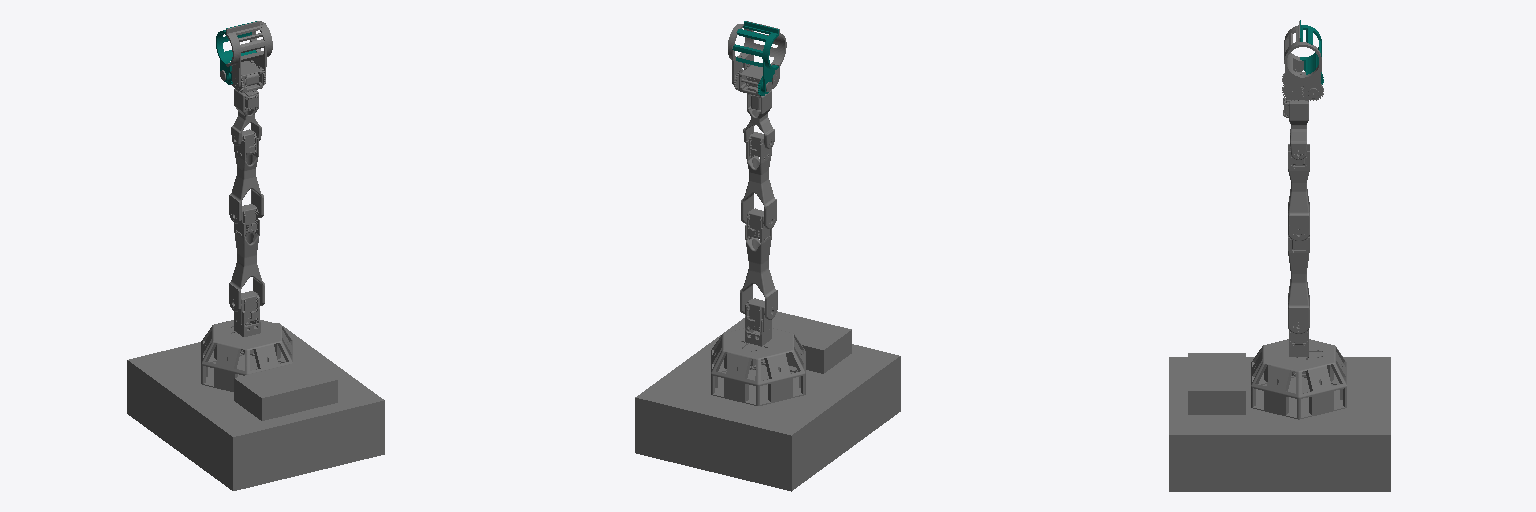
--- Facts derived from the render (not from the file) ---
The picture shows the robot from 3 angles, left to right: view 1: azimuth 30°, elevation 25°; view 2: azimuth 150°, elevation 25°; view 3: azimuth 270°, elevation 25°; orthographic projection.
Model Braccio with 28 links and 27 joints (7 revolute, 20 fixed), rooted at base_link, posed every joint at zero.
Links seen in each view (by area): view 1: base_link, socle, part_1_2, part_1_3, pince, poignee, pince_6, part_7_2; view 2: base_link, socle, part_1_2, part_1_3, pince_6, poignee, part_7_2, pince; view 3: base_link, socle, part_1_2, part_1_3, poignee, pince_2, pince_5, pince_6.
Link boxes in pixels (box(x1,y1,x2,y2)): base_link: box(127, 323, 384, 490); socle: box(201, 320, 292, 391); part_1_2: box(229, 219, 264, 311); part_1_3: box(229, 138, 263, 223); pince: box(226, 21, 266, 91); poignee: box(231, 89, 261, 145); pince_6: box(216, 21, 256, 84); part_7_2: box(235, 291, 259, 324); base_link: box(635, 311, 900, 491); socle: box(711, 328, 805, 405); part_1_2: box(740, 224, 777, 319); part_1_3: box(741, 140, 776, 228); pince_6: box(732, 21, 778, 95); poignee: box(743, 90, 774, 148); part_7_2: box(745, 298, 770, 331); pince: box(747, 21, 786, 88); base_link: box(1169, 353, 1390, 491); socle: box(1251, 339, 1346, 419); part_1_2: box(1288, 236, 1309, 333); part_1_3: box(1288, 144, 1309, 240); poignee: box(1289, 100, 1308, 159); pince_2: box(1282, 42, 1303, 100); pince_5: box(1300, 42, 1323, 100); pince_6: box(1300, 20, 1323, 84).
Size in the robot's own frame: 0.38 by 0.46 by 0.9668 metres.
28 mesh visuals loaded from 28 distinct referenced files (28 binary STL).

The robot description file, URDF, robot "Braccio":
<robot name="Braccio">
    <link name="base_link">
        <visual>
            <origin xyz="0 0 0" rpy="0 -0 0" />
            <geometry>
                <mesh filename="package://braccio_description/meshes/base_link_visual.stl" />
            </geometry>
            <material name="base_link_material">
                <color rgba="0.5 0.5 0.5 1.0" />
            </material>
        </visual>
        <collision>
            <origin xyz="0 0 0" rpy="0 -0 0" />
            <geometry>
                <mesh filename="package://braccio_description/meshes/base_link_collision.stl" />
            </geometry>
            <material name="base_link_material">
                <color rgba="0.5 0.5 0.5 1.0" />
            </material>
        </collision>
        <inertial>
            <origin xyz="0 0 0" rpy="0 0 0" />
            <mass value="0" />
            <inertia ixx="0" ixy="0" ixz="0" iyy="0" iyz="0" izz="0" />
        </inertial>
    </link>
    <link name="socle">
        <visual>
            <origin xyz="0 0 0" rpy="0 -0 0" />
            <geometry>
                <mesh filename="package://braccio_description/meshes/socle_visual.stl" />
            </geometry>
            <material name="socle_material">
                <color rgba="0.5 0.5 0.5 1.0" />
            </material>
        </visual>
        <collision>
            <origin xyz="0 0 0" rpy="0 -0 0" />
            <geometry>
                <mesh filename="package://braccio_description/meshes/socle_collision.stl" />
            </geometry>
            <material name="socle_material">
                <color rgba="0.5 0.5 0.5 1.0" />
            </material>
        </collision>
        <inertial>
            <origin xyz="0 0 0" rpy="0 0 0" />
            <mass value="0" />
            <inertia ixx="0" ixy="0" ixz="0" iyy="0" iyz="0" izz="0" />
        </inertial>
    </link>
    <link name="part_7">
        <visual>
            <origin xyz="0 0 0" rpy="0 -0 0" />
            <geometry>
                <mesh filename="package://braccio_description/meshes/part_7_visual.stl" />
            </geometry>
            <material name="part_7_material">
                <color rgba="0.5 0.5 0.5 1.0" />
            </material>
        </visual>
        <collision>
            <origin xyz="0 0 0" rpy="0 -0 0" />
            <geometry>
                <mesh filename="package://braccio_description/meshes/part_7_collision.stl" />
            </geometry>
            <material name="part_7_material">
                <color rgba="0.5 0.5 0.5 1.0" />
            </material>
        </collision>
        <inertial>
            <origin xyz="0 0 0" rpy="0 0 0" />
            <mass value="0" />
            <inertia ixx="0" ixy="0" ixz="0" iyy="0" iyz="0" izz="0" />
        </inertial>
    </link>
    <link name="part_5">
        <visual>
            <origin xyz="0 0 0" rpy="0 -0 0" />
            <geometry>
                <mesh filename="package://braccio_description/meshes/part_5_visual.stl" />
            </geometry>
            <material name="part_5_material">
                <color rgba="0.5 0.5 0.5 1.0" />
            </material>
        </visual>
        <collision>
            <origin xyz="0 0 0" rpy="0 -0 0" />
            <geometry>
                <mesh filename="package://braccio_description/meshes/part_5_collision.stl" />
            </geometry>
            <material name="part_5_material">
                <color rgba="0.5 0.5 0.5 1.0" />
            </material>
        </collision>
        <inertial>
            <origin xyz="0 0 0" rpy="0 0 0" />
            <mass value="0" />
            <inertia ixx="0" ixy="0" ixz="0" iyy="0" iyz="0" izz="0" />
        </inertial>
    </link>
    <link name="part_6">
        <visual>
            <origin xyz="0 0 0" rpy="0 -0 0" />
            <geometry>
                <mesh filename="package://braccio_description/meshes/part_6_visual.stl" />
            </geometry>
            <material name="part_6_material">
                <color rgba="0.5 0.5 0.5 1.0" />
            </material>
        </visual>
        <collision>
            <origin xyz="0 0 0" rpy="0 -0 0" />
            <geometry>
                <mesh filename="package://braccio_description/meshes/part_6_collision.stl" />
            </geometry>
            <material name="part_6_material">
                <color rgba="0.5 0.5 0.5 1.0" />
            </material>
        </collision>
        <inertial>
            <origin xyz="0 0 0" rpy="0 0 0" />
            <mass value="0" />
            <inertia ixx="0" ixy="0" ixz="0" iyy="0" iyz="0" izz="0" />
        </inertial>
    </link>
    <link name="part_4">
        <visual>
            <origin xyz="0 0 0" rpy="0 -0 0" />
            <geometry>
                <mesh filename="package://braccio_description/meshes/part_4_visual.stl" />
            </geometry>
            <material name="part_4_material">
                <color rgba="0.5 0.5 0.5 1.0" />
            </material>
        </visual>
        <collision>
            <origin xyz="0 0 0" rpy="0 -0 0" />
            <geometry>
                <mesh filename="package://braccio_description/meshes/part_4_collision.stl" />
            </geometry>
            <material name="part_4_material">
                <color rgba="0.5 0.5 0.5 1.0" />
            </material>
        </collision>
        <inertial>
            <origin xyz="0 0 0" rpy="0 0 0" />
            <mass value="0" />
            <inertia ixx="0" ixy="0" ixz="0" iyy="0" iyz="0" izz="0" />
        </inertial>
    </link>
    <joint name="3f" type="fixed">
        <origin xyz="-6.08714e-15 6.45312e-15 -0.0043" rpy="3.14159 1.24299e-32 -5.55112e-17" />
        <parent link="part_6" />
        <child link="part_4" />
        <axis xyz="0 0 1" />
        <limit effort="1" velocity="20" />
        <joint_properties friction="0.0" />
    </joint>
    <link name="part_1">
        <visual>
            <origin xyz="0 0 0" rpy="0 -0 0" />
            <geometry>
                <mesh filename="package://braccio_description/meshes/part_1_visual.stl" />
            </geometry>
            <material name="part_1_material">
                <color rgba="0.5 0.5 0.5 1.0" />
            </material>
        </visual>
        <collision>
            <origin xyz="0 0 0" rpy="0 -0 0" />
            <geometry>
                <mesh filename="package://braccio_description/meshes/part_1_collision.stl" />
            </geometry>
            <material name="part_1_material">
                <color rgba="0.5 0.5 0.5 1.0" />
            </material>
        </collision>
        <inertial>
            <origin xyz="0 0 0" rpy="0 0 0" />
            <mass value="0" />
            <inertia ixx="0" ixy="0" ixz="0" iyy="0" iyz="0" izz="0" />
        </inertial>
    </link>
    <link name="part_7_2">
        <visual>
            <origin xyz="0 0 0" rpy="0 -0 0" />
            <geometry>
                <mesh filename="package://braccio_description/meshes/part_7_2_visual.stl" />
            </geometry>
            <material name="part_7_2_material">
                <color rgba="0.5 0.5 0.5 1.0" />
            </material>
        </visual>
        <collision>
            <origin xyz="0 0 0" rpy="0 -0 0" />
            <geometry>
                <mesh filename="package://braccio_description/meshes/part_7_2_collision.stl" />
            </geometry>
            <material name="part_7_2_material">
                <color rgba="0.5 0.5 0.5 1.0" />
            </material>
        </collision>
        <inertial>
            <origin xyz="0 0 0" rpy="0 0 0" />
            <mass value="0" />
            <inertia ixx="0" ixy="0" ixz="0" iyy="0" iyz="0" izz="0" />
        </inertial>
    </link>
    <link name="part_5_2">
        <visual>
            <origin xyz="0 0 0" rpy="0 -0 0" />
            <geometry>
                <mesh filename="package://braccio_description/meshes/part_5_2_visual.stl" />
            </geometry>
            <material name="part_5_2_material">
                <color rgba="0.5 0.5 0.5 1.0" />
            </material>
        </visual>
        <collision>
            <origin xyz="0 0 0" rpy="0 -0 0" />
            <geometry>
                <mesh filename="package://braccio_description/meshes/part_5_2_collision.stl" />
            </geometry>
            <material name="part_5_2_material">
                <color rgba="0.5 0.5 0.5 1.0" />
            </material>
        </collision>
        <inertial>
            <origin xyz="0 0 0" rpy="0 0 0" />
            <mass value="0" />
            <inertia ixx="0" ixy="0" ixz="0" iyy="0" iyz="0" izz="0" />
        </inertial>
    </link>
    <link name="part_4_2">
        <visual>
            <origin xyz="0 0 0" rpy="0 -0 0" />
            <geometry>
                <mesh filename="package://braccio_description/meshes/part_4_2_visual.stl" />
            </geometry>
            <material name="part_4_2_material">
                <color rgba="0.5 0.5 0.5 1.0" />
            </material>
        </visual>
        <collision>
            <origin xyz="0 0 0" rpy="0 -0 0" />
            <geometry>
                <mesh filename="package://braccio_description/meshes/part_4_2_collision.stl" />
            </geometry>
            <material name="part_4_2_material">
                <color rgba="0.5 0.5 0.5 1.0" />
            </material>
        </collision>
        <inertial>
            <origin xyz="0 0 0" rpy="0 0 0" />
            <mass value="0" />
            <inertia ixx="0" ixy="0" ixz="0" iyy="0" iyz="0" izz="0" />
        </inertial>
    </link>
    <link name="part_6_2">
        <visual>
            <origin xyz="0 0 0" rpy="0 -0 0" />
            <geometry>
                <mesh filename="package://braccio_description/meshes/part_6_2_visual.stl" />
            </geometry>
            <material name="part_6_2_material">
                <color rgba="0.5 0.5 0.5 1.0" />
            </material>
        </visual>
        <collision>
            <origin xyz="0 0 0" rpy="0 -0 0" />
            <geometry>
                <mesh filename="package://braccio_description/meshes/part_6_2_collision.stl" />
            </geometry>
            <material name="part_6_2_material">
                <color rgba="0.5 0.5 0.5 1.0" />
            </material>
        </collision>
        <inertial>
            <origin xyz="0 0 0" rpy="0 0 0" />
            <mass value="0" />
            <inertia ixx="0" ixy="0" ixz="0" iyy="0" iyz="0" izz="0" />
        </inertial>
    </link>
    <link name="part_1_2">
        <visual>
            <origin xyz="0 0 0" rpy="0 -0 0" />
            <geometry>
                <mesh filename="package://braccio_description/meshes/part_1_2_visual.stl" />
            </geometry>
            <material name="part_1_2_material">
                <color rgba="0.5 0.5 0.5 1.0" />
            </material>
        </visual>
        <collision>
            <origin xyz="0 0 0" rpy="0 -0 0" />
            <geometry>
                <mesh filename="package://braccio_description/meshes/part_1_2_collision.stl" />
            </geometry>
            <material name="part_1_2_material">
                <color rgba="0.5 0.5 0.5 1.0" />
            </material>
        </collision>
        <inertial>
            <origin xyz="0 0 0" rpy="0 0 0" />
            <mass value="0" />
            <inertia ixx="0" ixy="0" ixz="0" iyy="0" iyz="0" izz="0" />
        </inertial>
    </link>
    <link name="part_17">
        <visual>
            <origin xyz="0 0 0" rpy="0 -0 0" />
            <geometry>
                <mesh filename="package://braccio_description/meshes/part_17_visual.stl" />
            </geometry>
            <material name="part_17_material">
                <color rgba="0.5 0.5 0.5 1.0" />
            </material>
        </visual>
        <collision>
            <origin xyz="0 0 0" rpy="0 -0 0" />
            <geometry>
                <mesh filename="package://braccio_description/meshes/part_17_collision.stl" />
            </geometry>
            <material name="part_17_material">
                <color rgba="0.5 0.5 0.5 1.0" />
            </material>
        </collision>
        <inertial>
            <origin xyz="0 0 0" rpy="0 0 0" />
            <mass value="0" />
            <inertia ixx="0" ixy="0" ixz="0" iyy="0" iyz="0" izz="0" />
        </inertial>
    </link>
    <link name="part_6_3">
        <visual>
            <origin xyz="0 0 0" rpy="0 -0 0" />
            <geometry>
                <mesh filename="package://braccio_description/meshes/part_6_3_visual.stl" />
            </geometry>
            <material name="part_6_3_material">
                <color rgba="0.5 0.5 0.5 1.0" />
            </material>
        </visual>
        <collision>
            <origin xyz="0 0 0" rpy="0 -0 0" />
            <geometry>
                <mesh filename="package://braccio_description/meshes/part_6_3_collision.stl" />
            </geometry>
            <material name="part_6_3_material">
                <color rgba="0.5 0.5 0.5 1.0" />
            </material>
        </collision>
        <inertial>
            <origin xyz="0 0 0" rpy="0 0 0" />
            <mass value="0" />
            <inertia ixx="0" ixy="0" ixz="0" iyy="0" iyz="0" izz="0" />
        </inertial>
    </link>
    <link name="part_1_3">
        <visual>
            <origin xyz="0 0 0" rpy="0 -0 0" />
            <geometry>
                <mesh filename="package://braccio_description/meshes/part_1_3_visual.stl" />
            </geometry>
            <material name="part_1_3_material">
                <color rgba="0.5 0.5 0.5 1.0" />
            </material>
        </visual>
        <collision>
            <origin xyz="0 0 0" rpy="0 -0 0" />
            <geometry>
                <mesh filename="package://braccio_description/meshes/part_1_3_collision.stl" />
            </geometry>
            <material name="part_1_3_material">
                <color rgba="0.5 0.5 0.5 1.0" />
            </material>
        </collision>
        <inertial>
            <origin xyz="0 0 0" rpy="0 0 0" />
            <mass value="0" />
            <inertia ixx="0" ixy="0" ixz="0" iyy="0" iyz="0" izz="0" />
        </inertial>
    </link>
    <link name="part_1_4">
        <visual>
            <origin xyz="0 0 0" rpy="0 -0 0" />
            <geometry>
                <mesh filename="package://braccio_description/meshes/part_1_4_visual.stl" />
            </geometry>
            <material name="part_1_4_material">
                <color rgba="0.5 0.5 0.5 1.0" />
            </material>
        </visual>
        <collision>
            <origin xyz="0 0 0" rpy="0 -0 0" />
            <geometry>
                <mesh filename="package://braccio_description/meshes/part_1_4_collision.stl" />
            </geometry>
            <material name="part_1_4_material">
                <color rgba="0.5 0.5 0.5 1.0" />
            </material>
        </collision>
        <inertial>
            <origin xyz="0 0 0" rpy="0 0 0" />
            <mass value="0" />
            <inertia ixx="0" ixy="0" ixz="0" iyy="0" iyz="0" izz="0" />
        </inertial>
    </link>
    <link name="poignee">
        <visual>
            <origin xyz="0 0 0" rpy="0 -0 0" />
            <geometry>
                <mesh filename="package://braccio_description/meshes/poignee_visual.stl" />
            </geometry>
            <material name="poignee_material">
                <color rgba="0.5 0.5 0.5 1.0" />
            </material>
        </visual>
        <collision>
            <origin xyz="0 0 0" rpy="0 -0 0" />
            <geometry>
                <mesh filename="package://braccio_description/meshes/poignee_collision.stl" />
            </geometry>
            <material name="poignee_material">
                <color rgba="0.5 0.5 0.5 1.0" />
            </material>
        </collision>
        <inertial>
            <origin xyz="0 0 0" rpy="0 0 0" />
            <mass value="0" />
            <inertia ixx="0" ixy="0" ixz="0" iyy="0" iyz="0" izz="0" />
        </inertial>
    </link>
    <link name="part_11">
        <visual>
            <origin xyz="0 0 0" rpy="0 -0 0" />
            <geometry>
                <mesh filename="package://braccio_description/meshes/part_11_visual.stl" />
            </geometry>
            <material name="part_11_material">
                <color rgba="0.5 0.5 0.5 1.0" />
            </material>
        </visual>
        <collision>
            <origin xyz="0 0 0" rpy="0 -0 0" />
            <geometry>
                <mesh filename="package://braccio_description/meshes/part_11_collision.stl" />
            </geometry>
            <material name="part_11_material">
                <color rgba="0.5 0.5 0.5 1.0" />
            </material>
        </collision>
        <inertial>
            <origin xyz="0 0 0" rpy="0 0 0" />
            <mass value="0" />
            <inertia ixx="0" ixy="0" ixz="0" iyy="0" iyz="0" izz="0" />
        </inertial>
    </link>
    <link name="part_2">
        <visual>
            <origin xyz="0 0 0" rpy="0 -0 0" />
            <geometry>
                <mesh filename="package://braccio_description/meshes/part_2_visual.stl" />
            </geometry>
            <material name="part_2_material">
                <color rgba="0.5 0.5 0.5 1.0" />
            </material>
        </visual>
        <collision>
            <origin xyz="0 0 0" rpy="0 -0 0" />
            <geometry>
                <mesh filename="package://braccio_description/meshes/part_2_collision.stl" />
            </geometry>
            <material name="part_2_material">
                <color rgba="0.5 0.5 0.5 1.0" />
            </material>
        </collision>
        <inertial>
            <origin xyz="0 0 0" rpy="0 0 0" />
            <mass value="0" />
            <inertia ixx="0" ixy="0" ixz="0" iyy="0" iyz="0" izz="0" />
        </inertial>
    </link>
    <link name="support_pince">
        <visual>
            <origin xyz="0 0 0" rpy="0 -0 0" />
            <geometry>
                <mesh filename="package://braccio_description/meshes/support_pince_visual.stl" />
            </geometry>
            <material name="support_pince_material">
                <color rgba="0.5 0.5 0.5 1.0" />
            </material>
        </visual>
        <collision>
            <origin xyz="0 0 0" rpy="0 -0 0" />
            <geometry>
                <mesh filename="package://braccio_description/meshes/support_pince_collision.stl" />
            </geometry>
            <material name="support_pince_material">
                <color rgba="0.5 0.5 0.5 1.0" />
            </material>
        </collision>
        <inertial>
            <origin xyz="0 0 0" rpy="0 0 0" />
            <mass value="0" />
            <inertia ixx="0" ixy="0" ixz="0" iyy="0" iyz="0" izz="0" />
        </inertial>
    </link>
    <link name="part_11_2">
        <visual>
            <origin xyz="0 0 0" rpy="0 -0 0" />
            <geometry>
                <mesh filename="package://braccio_description/meshes/part_11_2_visual.stl" />
            </geometry>
            <material name="part_11_2_material">
                <color rgba="0.5 0.5 0.5 1.0" />
            </material>
        </visual>
        <collision>
            <origin xyz="0 0 0" rpy="0 -0 0" />
            <geometry>
                <mesh filename="package://braccio_description/meshes/part_11_2_collision.stl" />
            </geometry>
            <material name="part_11_2_material">
                <color rgba="0.5 0.5 0.5 1.0" />
            </material>
        </collision>
        <inertial>
            <origin xyz="0 0 0" rpy="0 0 0" />
            <mass value="0" />
            <inertia ixx="0" ixy="0" ixz="0" iyy="0" iyz="0" izz="0" />
        </inertial>
    </link>
    <link name="part_2_2">
        <visual>
            <origin xyz="0 0 0" rpy="0 -0 0" />
            <geometry>
                <mesh filename="package://braccio_description/meshes/part_2_2_visual.stl" />
            </geometry>
            <material name="part_2_2_material">
                <color rgba="0.5 0.5 0.5 1.0" />
            </material>
        </visual>
        <collision>
            <origin xyz="0 0 0" rpy="0 -0 0" />
            <geometry>
                <mesh filename="package://braccio_description/meshes/part_2_2_collision.stl" />
            </geometry>
            <material name="part_2_2_material">
                <color rgba="0.5 0.5 0.5 1.0" />
            </material>
        </collision>
        <inertial>
            <origin xyz="0 0 0" rpy="0 0 0" />
            <mass value="0" />
            <inertia ixx="0" ixy="0" ixz="0" iyy="0" iyz="0" izz="0" />
        </inertial>
    </link>
    <link name="pince">
        <visual>
            <origin xyz="0 0 0" rpy="0 -0 0" />
            <geometry>
                <mesh filename="package://braccio_description/meshes/pince_visual.stl" />
            </geometry>
            <material name="pince_material">
                <color rgba="0.5 0.5 0.5 1.0" />
            </material>
        </visual>
        <collision>
            <origin xyz="0 0 0" rpy="0 -0 0" />
            <geometry>
                <mesh filename="package://braccio_description/meshes/pince_collision.stl" />
            </geometry>
            <material name="pince_material">
                <color rgba="0.5 0.5 0.5 1.0" />
            </material>
        </collision>
        <inertial>
            <origin xyz="0 0 0" rpy="0 0 0" />
            <mass value="0" />
            <inertia ixx="0" ixy="0" ixz="0" iyy="0" iyz="0" izz="0" />
        </inertial>
    </link>
    <link name="pince_2">
        <visual>
            <origin xyz="0 0 0" rpy="0 -0 0" />
            <geometry>
                <mesh filename="package://braccio_description/meshes/pince_2_visual.stl" />
            </geometry>
            <material name="pince_2_material">
                <color rgba="0.5 0.5 0.5 1.0" />
            </material>
        </visual>
        <collision>
            <origin xyz="0 0 0" rpy="0 -0 0" />
            <geometry>
                <mesh filename="package://braccio_description/meshes/pince_2_collision.stl" />
            </geometry>
            <material name="pince_2_material">
                <color rgba="0.5 0.5 0.5 1.0" />
            </material>
        </collision>
        <inertial>
            <origin xyz="0 0 0" rpy="0 0 0" />
            <mass value="0" />
            <inertia ixx="0" ixy="0" ixz="0" iyy="0" iyz="0" izz="0" />
        </inertial>
    </link>
    <joint name="22f" type="fixed">
        <origin xyz="0.0135856 -0.0828639 0.0525" rpy="-3.14159 3.27525e-30 6.31089e-30" />
        <parent link="pince" />
        <child link="pince_2" />
        <axis xyz="0 0 1" />
        <limit effort="1" velocity="20" />
        <joint_properties friction="0.0" />
    </joint>
    <joint name="21f" type="fixed">
        <origin xyz="0 0 -0.0077" rpy="-3.9795e-15 2.22045e-16 -1.5708" />
        <parent link="part_2_2" />
        <child link="pince" />
        <axis xyz="0 0 1" />
        <limit effort="1" velocity="20" />
        <joint_properties friction="0.0" />
    </joint>
    <joint name="pince_mot" type="revolute">
        <origin xyz="-0.0135 0.0225 -0.0026" rpy="3.14159 4.31256e-15 5.73896e-29" />
        <parent link="part_11_2" />
        <child link="part_2_2" />
        <axis xyz="0 0 1" />
        <limit effort="1" velocity="20" lower="0" upper="1.5708" />
        <joint_properties friction="0.0" />
    </joint>
    <joint name="19f" type="fixed">
        <origin xyz="0.00350003 -0.0142499 -0.00999994" rpy="1.5708 -1.5708 0" />
        <parent link="support_pince" />
        <child link="part_11_2" />
        <axis xyz="0 0 1" />
        <limit effort="1" velocity="20" />
        <joint_properties friction="0.0" />
    </joint>
    <link name="pince_3">
        <visual>
            <origin xyz="0 0 0" rpy="0 -0 0" />
            <geometry>
                <mesh filename="package://braccio_description/meshes/pince_3_visual.stl" />
            </geometry>
            <material name="pince_3_material">
                <color rgba="0.5 0.5 0.5 1.0" />
            </material>
        </visual>
        <collision>
            <origin xyz="0 0 0" rpy="0 -0 0" />
            <geometry>
                <mesh filename="package://braccio_description/meshes/pince_3_collision.stl" />
            </geometry>
            <material name="pince_3_material">
                <color rgba="0.5 0.5 0.5 1.0" />
            </material>
        </collision>
        <inertial>
            <origin xyz="0 0 0" rpy="0 0 0" />
            <mass value="0" />
            <inertia ixx="0" ixy="0" ixz="0" iyy="0" iyz="0" izz="0" />
        </inertial>
    </link>
    <link name="pince_4">
        <visual>
            <origin xyz="0 0 0" rpy="0 -0 0" />
            <geometry>
                <mesh filename="package://braccio_description/meshes/pince_4_visual.stl" />
            </geometry>
            <material name="pince_4_material">
                <color rgba="0.5 0.5 0.5 1.0" />
            </material>
        </visual>
        <collision>
            <origin xyz="0 0 0" rpy="0 -0 0" />
            <geometry>
                <mesh filename="package://braccio_description/meshes/pince_4_collision.stl" />
            </geometry>
            <material name="pince_4_material">
                <color rgba="0.5 0.5 0.5 1.0" />
            </material>
        </collision>
        <inertial>
            <origin xyz="0 0 0" rpy="0 0 0" />
            <mass value="0" />
            <inertia ixx="0" ixy="0" ixz="0" iyy="0" iyz="0" izz="0" />
        </inertial>
    </link>
    <link name="pince_5">
        <visual>
            <origin xyz="0 0 0" rpy="0 -0 0" />
            <geometry>
                <mesh filename="package://braccio_description/meshes/pince_5_visual.stl" />
            </geometry>
            <material name="pince_5_material">
                <color rgba="0.5 0.5 0.5 1.0" />
            </material>
        </visual>
        <collision>
            <origin xyz="0 0 0" rpy="0 -0 0" />
            <geometry>
                <mesh filename="package://braccio_description/meshes/pince_5_collision.stl" />
            </geometry>
            <material name="pince_5_material">
                <color rgba="0.5 0.5 0.5 1.0" />
            </material>
        </collision>
        <inertial>
            <origin xyz="0 0 0" rpy="0 0 0" />
            <mass value="0" />
            <inertia ixx="0" ixy="0" ixz="0" iyy="0" iyz="0" izz="0" />
        </inertial>
    </link>
    <joint name="25f" type="fixed">
        <origin xyz="-0.0111547 -0.002 0.0025" rpy="-9.18292e-15 2.22045e-16 -5.68108e-16" />
        <parent link="pince_4" />
        <child link="pince_5" />
        <axis xyz="0 0 1" />
        <limit effort="1" velocity="20" />
        <joint_properties friction="0.0" />
    </joint>
    <joint name="24f" type="fixed">
        <origin xyz="-0.0011547 0.002 -0.0375" rpy="-3.14159 -1.11022e-16 -3.14159" />
        <parent link="pince_3" />
        <child link="pince_4" />
        <axis xyz="0 0 1" />
        <limit effort="1" velocity="20" />
        <joint_properties friction="0.0" />
    </joint>
    <link name="pince_6">
        <visual>
            <origin xyz="0 0 0" rpy="0 -0 0" />
            <geometry>
                <mesh filename="package://braccio_description/meshes/pince_6_visual.stl" />
            </geometry>
            <material name="pince_6_material">
                <color rgba="0.0470588 0.470588 0.435294 1.0" />
            </material>
        </visual>
        <collision>
            <origin xyz="0 0 0" rpy="0 -0 0" />
            <geometry>
                <mesh filename="package://braccio_description/meshes/pince_6_collision.stl" />
            </geometry>
            <material name="pince_6_material">
                <color rgba="0.5 0.5 0.5 1.0" />
            </material>
        </collision>
        <inertial>
            <origin xyz="0.00232943 0.0532684 -0.0199597" rpy="0 0 0" />
            <mass value="0.0598161" />
            <inertia ixx="0.000137938" ixy="6.9959e-06" ixz="-1.48999e-06" iyy="4.32368e-05" iyz="1.89377e-05" izz="0.000112883" />
        </inertial>
    </link>
    <joint name="26f" type="fixed">
        <origin xyz="6.93889e-18 -2.22045e-16 0.039" rpy="-3.67723e-17 1.72085e-15 -3.14159" />
        <parent link="pince_3" />
        <child link="pince_6" />
        <axis xyz="0 0 1" />
        <limit effort="1" velocity="20" />
        <joint_properties friction="0.0" />
    </joint>
    <joint name="pince_lib" type="revolute">
        <origin xyz="0.024 -0.000549949 -0.0234999" rpy="1.5708 -6.66587e-29 -2.94781e-15" />
        <parent link="support_pince" />
        <child link="pince_3" />
        <axis xyz="0 0 1" />
        <limit effort="1" velocity="20" lower="0" upper="1.5708" />
        <joint_properties friction="0.0" />
    </joint>
    <joint name="18f" type="fixed">
        <origin xyz="-2.60209e-18 -8.67362e-19 0.01431" rpy="3.14159 -1.57772e-30 1.5708" />
        <parent link="part_2" />
        <child link="support_pince" />
        <axis xyz="0 0 1" />
        <limit effort="1" velocity="20" />
        <joint_properties friction="0.0" />
    </joint>
    <joint name="poignet_rot" type="revolute">
        <origin xyz="0.0135 0.0145 -0.0026" rpy="-2.22045e-16 -2.22045e-16 -1.64305e-14" />
        <parent link="part_11" />
        <child link="part_2" />
        <axis xyz="0 0 1" />
        <limit effort="1" velocity="20" lower="-3.14159" upper="3.14159" />
        <joint_properties friction="0.0" />
    </joint>
    <joint name="16f" type="fixed">
        <origin xyz="0.008 0.110686 -0.016" rpy="-1.5708 1.5708 0" />
        <parent link="poignee" />
        <child link="part_11" />
        <axis xyz="0 0 1" />
        <limit effort="1" velocity="20" />
        <joint_properties friction="0.0" />
    </joint>
    <joint name="poignet_incl" type="revolute">
        <origin xyz="0.0080763 -0.0358 0.01475" rpy="-3.8477e-15 1.20224e-15 -3.14159" />
        <parent link="part_1_4" />
        <child link="poignee" />
        <axis xyz="0 0 1" />
        <limit effort="1" velocity="20" lower="-1.74533" upper="1.74533" />
        <joint_properties friction="0.0" />
    </joint>
    <joint name="14f" type="fixed">
        <origin xyz="-0.1342 -0.0085 0.009" rpy="-3.14159 -2.26416e-31 1.5708" />
        <parent link="part_1_3" />
        <child link="part_1_4" />
        <axis xyz="0 0 1" />
        <limit effort="1" velocity="20" />
        <joint_properties friction="0.0" />
    </joint>
    <joint name="13f" type="fixed">
        <origin xyz="0.0109949 0.000336119 0.006" rpy="3.14159 1.0011e-14 3.14159" />
        <parent link="part_6_3" />
        <child link="part_1_3" />
        <axis xyz="0 0 1" />
        <limit effort="1" velocity="20" />
        <joint_properties friction="0.0" />
    </joint>
    <joint name="coude" type="revolute">
        <origin xyz="-0.0109994 0.0453 -0.0362" rpy="3.14159 -2.81242e-15 1.5708" />
        <parent link="part_17" />
        <child link="part_6_3" />
        <axis xyz="0 0 1" />
        <limit effort="1" velocity="20" lower="-2.0944" upper="2.0944" />
        <joint_properties friction="0.0" />
    </joint>
    <joint name="11f" type="fixed">
        <origin xyz="-0.176688 0.011 0.04325" rpy="1.64806e-15 -1.74617e-15 1.5708" />
        <parent link="part_1_2" />
        <child link="part_17" />
        <axis xyz="0 0 1" />
        <limit effort="1" velocity="20" />
        <joint_properties friction="0.0" />
    </joint>
    <joint name="10f" type="fixed">
        <origin xyz="0.000336119 -0.0109949 0.0002" rpy="-3.14159 4.87172e-17 -1.5708" />
        <parent link="part_6_2" />
        <child link="part_1_2" />
        <axis xyz="0 0 1" />
        <limit effort="1" velocity="20" />
        <joint_properties friction="0.0" />
    </joint>
    <joint name="9f" type="fixed">
        <origin xyz="3.38813e-19 0 -0.0048" rpy="-3.14159 -8.8436e-31 -5.55112e-17" />
        <parent link="part_4_2" />
        <child link="part_6_2" />
        <axis xyz="0 0 1" />
        <limit effort="1" velocity="20" />
        <joint_properties friction="0.0" />
    </joint>
    <joint name="8f" type="fixed">
        <origin xyz="-2.43945e-18 0 0.0013" rpy="3.14159 -1.23886e-14 -3.14159" />
        <parent link="part_5_2" />
        <child link="part_4_2" />
        <axis xyz="0 0 1" />
        <limit effort="1" velocity="20" />
        <joint_properties friction="0.0" />
    </joint>
    <joint name="epaule" type="revolute">
        <origin xyz="-0.011 -0.0478 -0.038" rpy="-3.14159 -3.90704e-15 -3.14159" />
        <parent link="part_7_2" />
        <child link="part_5_2" />
        <axis xyz="0 0 1" />
        <limit effort="1" velocity="20" lower="-2.0944" upper="2.0944" />
        <joint_properties friction="0.0" />
    </joint>
    <joint name="6f" type="fixed">
        <origin xyz="0.011 0.01725 0.0203" rpy="-1.5708 4.11812e-22 5.55112e-17" />
        <parent link="part_1" />
        <child link="part_7_2" />
        <axis xyz="0 0 1" />
        <limit effort="1" velocity="20" />
        <joint_properties friction="0.0" />
    </joint>
    <joint name="5f" type="fixed">
        <origin xyz="-6.08714e-15 6.45249e-15 -0.0098" rpy="-3.14159 4.11812e-22 3.14159" />
        <parent link="part_6" />
        <child link="part_1" />
        <axis xyz="0 0 1" />
        <limit effort="1" velocity="20" />
        <joint_properties friction="0.0" />
    </joint>
    <joint name="4f" type="fixed">
        <origin xyz="-0.000120642 -0.00012451 0.002" rpy="3.14159 7.76538e-31 -1.18346e-30" />
        <parent link="part_5" />
        <child link="part_6" />
        <axis xyz="0 0 1" />
        <limit effort="1" velocity="20" />
        <joint_properties friction="0.0" />
    </joint>
    <joint name="base" type="revolute">
        <origin xyz="-2.68787e-12 0.0236933 0.004" rpy="3.27819e-22 6.47483e-22 -1.5708" />
        <parent link="part_7" />
        <child link="part_5" />
        <axis xyz="0 0 1" />
        <limit effort="1" velocity="20" lower="-4.71239" upper="4.71239" />
        <joint_properties friction="0.0" />
    </joint>
    <joint name="1f" type="fixed">
        <origin xyz="-0.0490748 0.0612586 -0.09" rpy="3.14159 1.22465e-16 -3.14159" />
        <parent link="socle" />
        <child link="part_7" />
        <axis xyz="0 0 1" />
        <limit effort="1" velocity="20" />
        <joint_properties friction="0.0" />
    </joint>
    <joint name="0f" type="fixed">
        <origin xyz="0.0490748 0.0849519 -0.0095" rpy="-3.14159 -2.52904e-15 2.28411e-15" />
        <parent link="base_link" />
        <child link="socle" />
        <axis xyz="0 0 1" />
        <limit effort="1" velocity="20" />
        <joint_properties friction="0.0" />
    </joint>
    <transmission name="trans_pince_mot">
        <type>transmission_interface/SimpleTransmission</type>
        <joint name="pince_mot">
            <hardwareInterface>hardware_interface/EffortJointInterface</hardwareInterface>
        </joint>
        <actuator name="pince_mot_motor">
            <hardwareInterface>hardware_interface/EffortJointInterface</hardwareInterface>
            <mechanicalReduction>1</mechanicalReduction>
        </actuator>
    </transmission>
    <transmission name="trans_pince_lib">
        <type>transmission_interface/SimpleTransmission</type>
        <joint name="pince_lib">
            <hardwareInterface>hardware_interface/EffortJointInterface</hardwareInterface>
        </joint>
        <actuator name="pince_lib_motor">
            <hardwareInterface>hardware_interface/EffortJointInterface</hardwareInterface>
            <mechanicalReduction>1</mechanicalReduction>
        </actuator>
    </transmission>
    <transmission name="trans_poignet_rot">
        <type>transmission_interface/SimpleTransmission</type>
        <joint name="poignet_rot">
            <hardwareInterface>hardware_interface/EffortJointInterface</hardwareInterface>
        </joint>
        <actuator name="poignet_rot_motor">
            <hardwareInterface>hardware_interface/EffortJointInterface</hardwareInterface>
            <mechanicalReduction>1</mechanicalReduction>
        </actuator>
    </transmission>
    <transmission name="trans_poignet_incl">
        <type>transmission_interface/SimpleTransmission</type>
        <joint name="poignet_incl">
            <hardwareInterface>hardware_interface/EffortJointInterface</hardwareInterface>
        </joint>
        <actuator name="poignet_incl_motor">
            <hardwareInterface>hardware_interface/EffortJointInterface</hardwareInterface>
            <mechanicalReduction>1</mechanicalReduction>
        </actuator>
    </transmission>
    <transmission name="trans_coude">
        <type>transmission_interface/SimpleTransmission</type>
        <joint name="coude">
            <hardwareInterface>hardware_interface/EffortJointInterface</hardwareInterface>
        </joint>
        <actuator name="coude_motor">
            <hardwareInterface>hardware_interface/EffortJointInterface</hardwareInterface>
            <mechanicalReduction>1</mechanicalReduction>
        </actuator>
    </transmission>
    <transmission name="trans_epaule">
        <type>transmission_interface/SimpleTransmission</type>
        <joint name="epaule">
            <hardwareInterface>hardware_interface/EffortJointInterface</hardwareInterface>
        </joint>
        <actuator name="epaule_motor">
            <hardwareInterface>hardware_interface/EffortJointInterface</hardwareInterface>
            <mechanicalReduction>1</mechanicalReduction>
        </actuator>
    </transmission>
    <transmission name="trans_base">
        <type>transmission_interface/SimpleTransmission</type>
        <joint name="base">
            <hardwareInterface>hardware_interface/EffortJointInterface</hardwareInterface>
        </joint>
        <actuator name="base_motor">
            <hardwareInterface>hardware_interface/EffortJointInterface</hardwareInterface>
            <mechanicalReduction>1</mechanicalReduction>
        </actuator>
    </transmission>
    <gazebo>
        <plugin name="gazebo_ros_control">
            <robotNamespace>/</robotNamespace>
        </plugin>
    </gazebo>
</robot>
